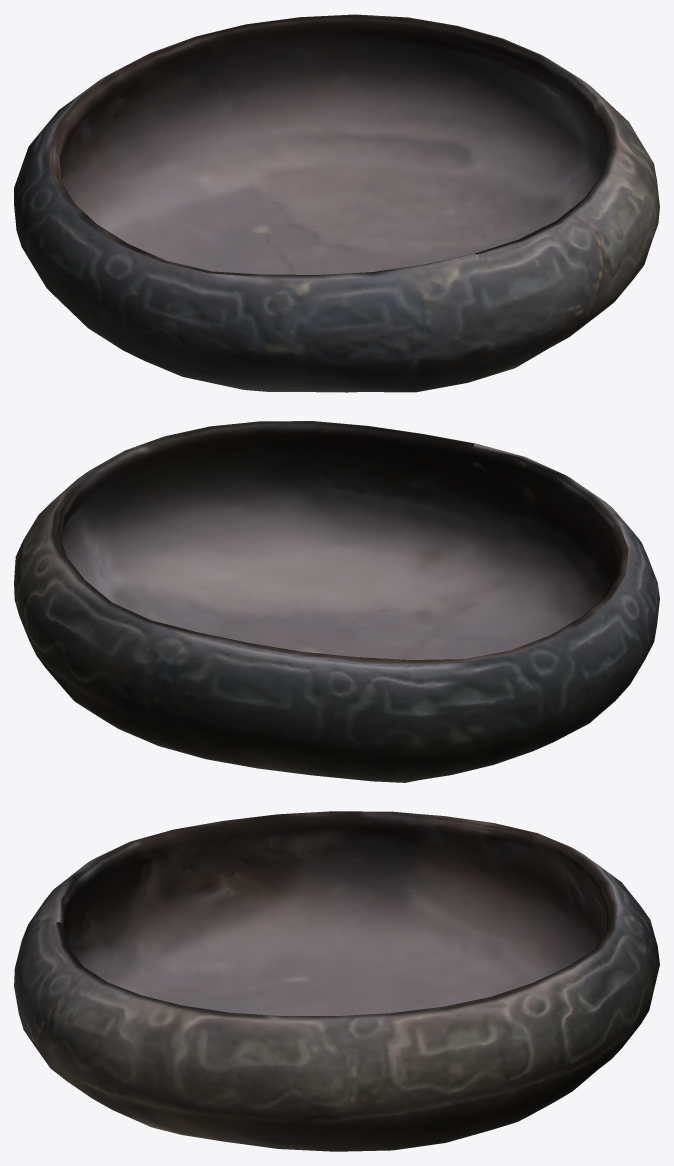
The model's file is cuenco tipo 1.fbx.
3 views of the same model, one above another, from view 1: azimuth 30°, elevation 25°; view 2: azimuth 150°, elevation 25°; view 3: azimuth 270°, elevation 25° (orthographic).
Parts seen in each view (by area): view 1: cuenco tipo 1; view 2: cuenco tipo 1; view 3: cuenco tipo 1.
Part boxes in pixels (x1,y1,x2,y2): cuenco tipo 1: (14, 14, 659, 392); cuenco tipo 1: (14, 421, 659, 782); cuenco tipo 1: (14, 811, 659, 1151).
Bounding box in the file's own units: 19.95 × 20.11 × 5.71.
1 material, 1 textured.
